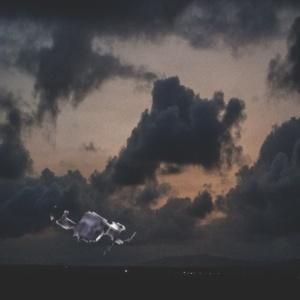drone: (46, 175, 142, 271)
